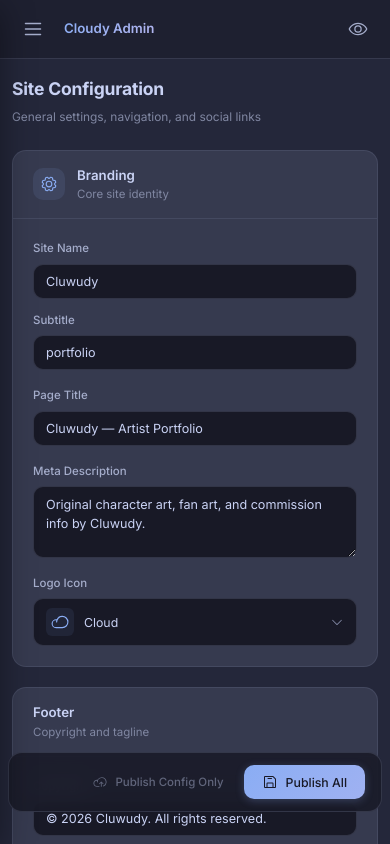
Test case: DashboardLayout › TC-039: closes the mobile sidebar when the overlay is clicked
Expected: the heading "Site Configuration" is shown, [12,78,164,99]
Click the button named "Open menu" at point(33, 29), box [14,10,52,48]
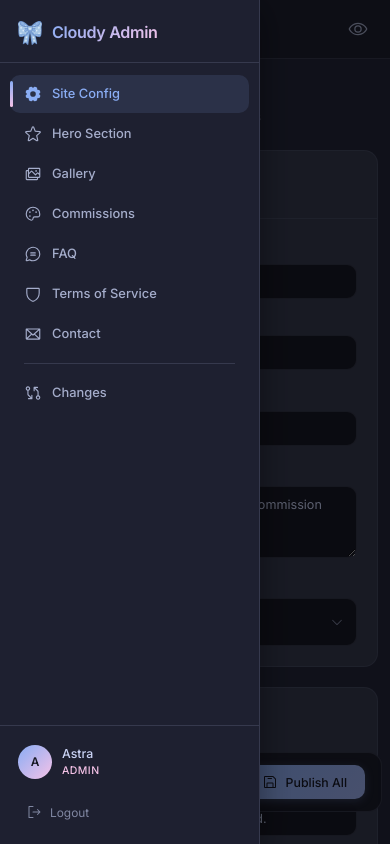
Expected: the element with class "sidebar-overlay" is shown
Click the element with class "sidebar-overlay" at point(367, 422), box [0,0,389,843]
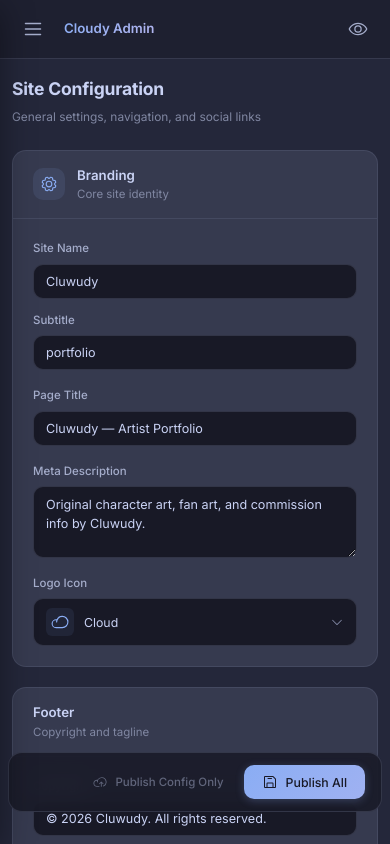
Expected: the element with class "sidebar-overlay" is gone
